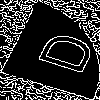D: (25, 25, 98, 76)
